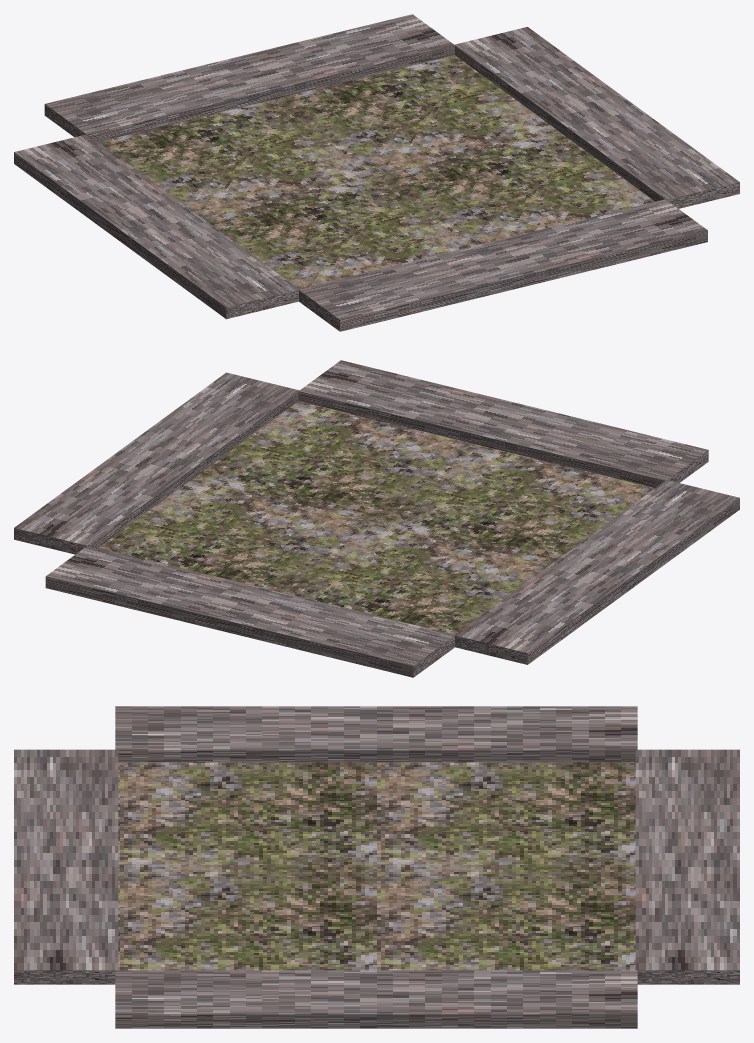
The model's file is TestStart.fbx.
3 renders of one model, top to bottom at view 1: azimuth 30°, elevation 25°; view 2: azimuth 150°, elevation 25°; view 3: azimuth 270°, elevation 25°, orthographic. The views are drawn at different scales.
Visible parts, largest first — view 1: Cube, Plane; view 2: Cube, Plane; view 3: Cube, Plane.
Part boxes in pixels (x1,y1,x2,y2): Cube: (14,14,739,331); Plane: (98,55,654,288); Cube: (14,360,739,677); Plane: (98,401,654,634); Cube: (14,706,739,1028); Plane: (118,762,635,970).
Size of the model in its own units: 1399 by 30.59 by 1393.
